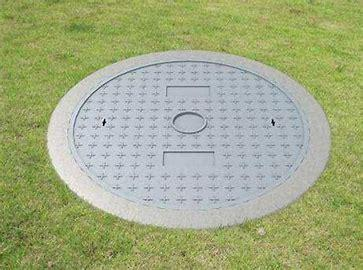wellcover: (62, 53, 312, 208)
